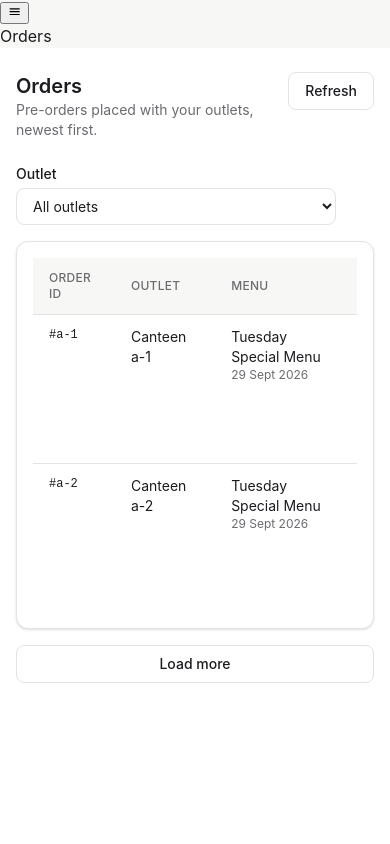
OrganizationOrdersPage › pagination › keeps the rows already loaded when a later page fails, and offers Try again
Click the button "Load more".
click(195, 664)  # box [16,645,374,683]
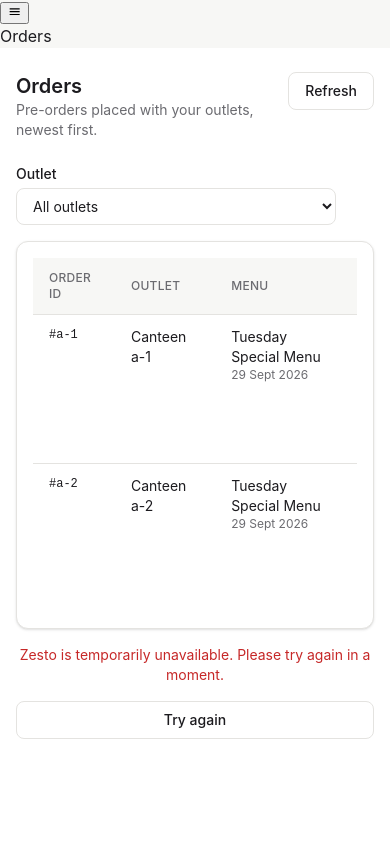
Expected: the message shows "Zesto is temporarily unavailable.", [20,646,370,683]
Click the button "Try again".
click(195, 720)  # box [16,701,374,739]
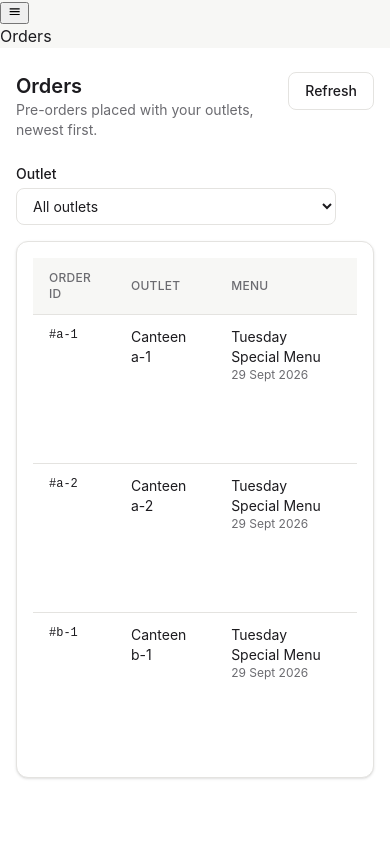
Expected: the message "Zesto is temporarily unavailable. Please try again in a moment." is gone
